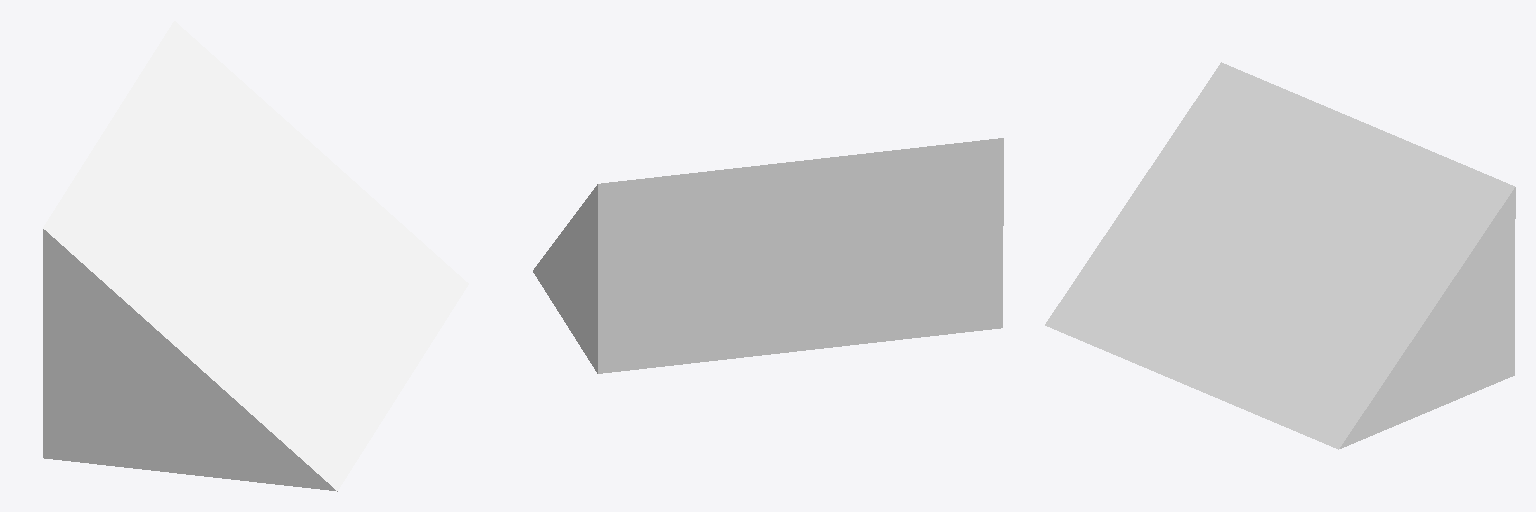
URDF robot description (walls):
<?xml version="1.0" encoding="utf-8"?>
<robot name="walls">
  <link name="base_link">
    <contact>
      <lateral_friction value="0.5"/>
      <rolling_friction value="0.0"/>
      <contact_cfm value="0.0"/>
      <contact_erp value="1.0"/>
    </contact>
    <inertial>
      <origin rpy="0 0 0" xyz="0 0 0"/>
      <mass value="10"/>
      <inertia ixx="0" ixy="0" ixz="0" iyy="0" iyz="0" izz="0"/>
    </inertial>
    <visual>
      <origin rpy="1.57 0 0.78539816339" xyz="0 0 0"/>
      <geometry>
        <mesh filename="models/meshes/warehouse/ramp.obj" scale="10 10 10"/>
      </geometry>
      <material name="tray_material">
        <color rgba="1 1 1 1"/>
      </material>
    </visual>
    <collision>
      <origin rpy="1.57 0 0.78539816339" xyz="0 0 0"/>
      <geometry>
        <mesh filename="models/meshes/warehouse/ramp.obj" scale="10 10 10"/>
      </geometry>
    </collision>
  </link>
</robot>

--- Facts derived from the render (not from the file) ---
Views: 3 orthographic renders of the robot side by side, from view 1: azimuth 30°, elevation 25°; view 2: azimuth 150°, elevation 25°; view 3: azimuth 270°, elevation 25°.
Model walls with 1 links and 0 joints (none), rooted at base_link, posed all joints at 0.
Links seen in each view (by area): view 1: base_link; view 2: base_link; view 3: base_link.
Link boxes in pixels (left/top/right/bottom): base_link: left=43, top=21, right=468, bottom=491; base_link: left=533, top=138, right=1003, bottom=373; base_link: left=1045, top=62, right=1515, bottom=449.
Bounding box of the posed robot: 2.26 × 2.26 × 1 m (x, y, z).
1 mesh visuals loaded from 1 distinct referenced files (1 OBJ).